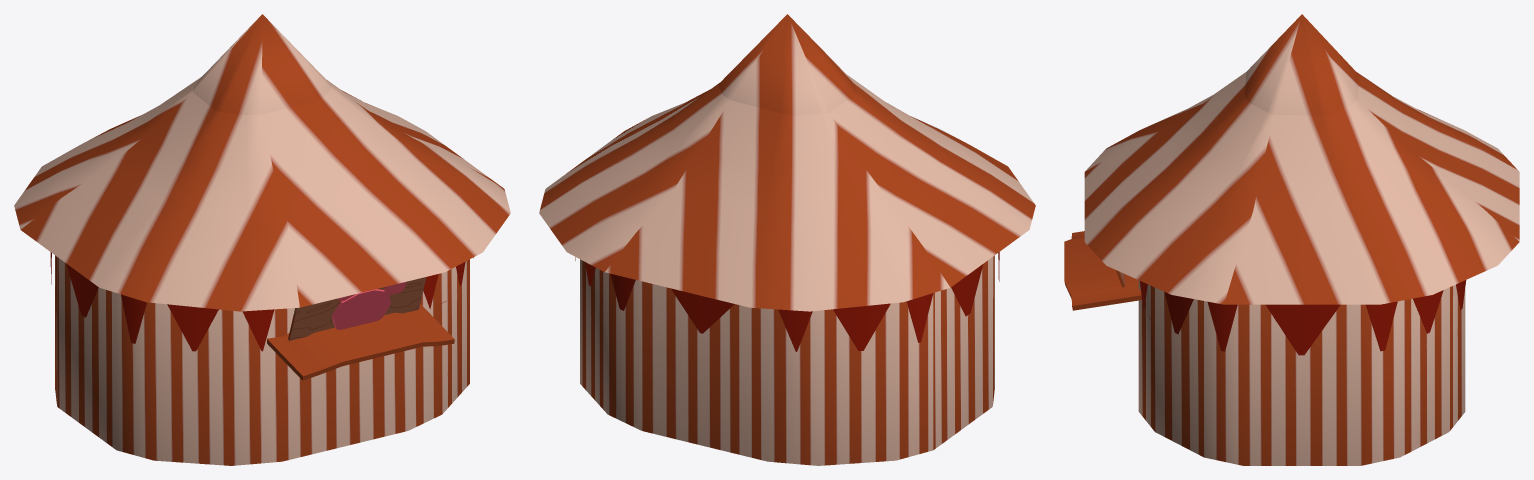
File: monkey_tent.fbx
3 views of the same model, side by side, from view 1: azimuth 30°, elevation 25°; view 2: azimuth 150°, elevation 25°; view 3: azimuth 270°, elevation 25° (orthographic).
Parts seen in each view (by area): view 1: pCube15, pCube13, pCube16, pCube14, pCube17, pCube21; view 2: pCube15, pCube13, pCube14; view 3: pCube15, pCube13, pCube14, pCube16.
Boxes of the visible parts, left/top/right/bottom form: pCube15: left=14, top=14, right=510, bottom=311; pCube13: left=55, top=255, right=469, bottom=465; pCube16: left=267, top=304, right=454, bottom=380; pCube14: left=50, top=252, right=473, bottom=351; pCube17: left=288, top=277, right=426, bottom=340; pCube21: left=331, top=281, right=406, bottom=329; pCube15: left=539, top=14, right=1035, bottom=311; pCube13: left=580, top=255, right=994, bottom=465; pCube14: left=575, top=252, right=999, bottom=351; pCube15: left=1084, top=14, right=1519, bottom=304; pCube13: left=1138, top=280, right=1465, bottom=465; pCube14: left=1140, top=280, right=1466, bottom=355; pCube16: left=1064, top=231, right=1141, bottom=310.
Size of the model in its own units: 48.07 by 42.16 by 47.36.
